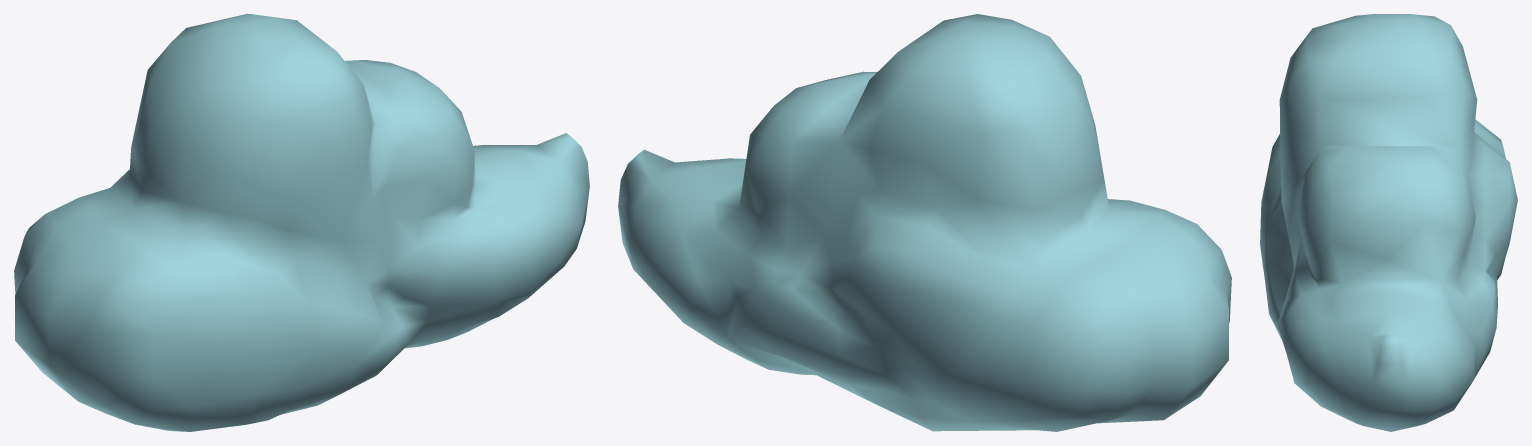
File: OBJ_Clouds_02.FBX
3 renders of one model, left to right at view 1: azimuth 30°, elevation 25°; view 2: azimuth 150°, elevation 25°; view 3: azimuth 270°, elevation 25°, orthographic. The views are drawn at different scales.
Visible parts, largest first — view 1: OBJ_Clouds_02; view 2: OBJ_Clouds_02; view 3: OBJ_Clouds_02.
Boxes of the visible parts, x1=… form: OBJ_Clouds_02: x1=14, y1=14, x2=589, y2=431; OBJ_Clouds_02: x1=618, y1=14, x2=1231, y2=431; OBJ_Clouds_02: x1=1260, y1=14, x2=1517, y2=431.
Bounding box in the file's own units: 84.23 × 54.87 × 37.11.
